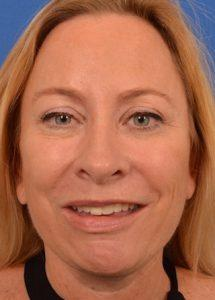normalMouth: (56, 193, 157, 232)
strokeEyeWeak: (33, 82, 173, 148)
